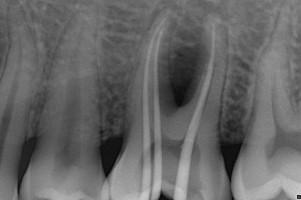Endo-Periodontal Lesion: (168, 42, 200, 104)
